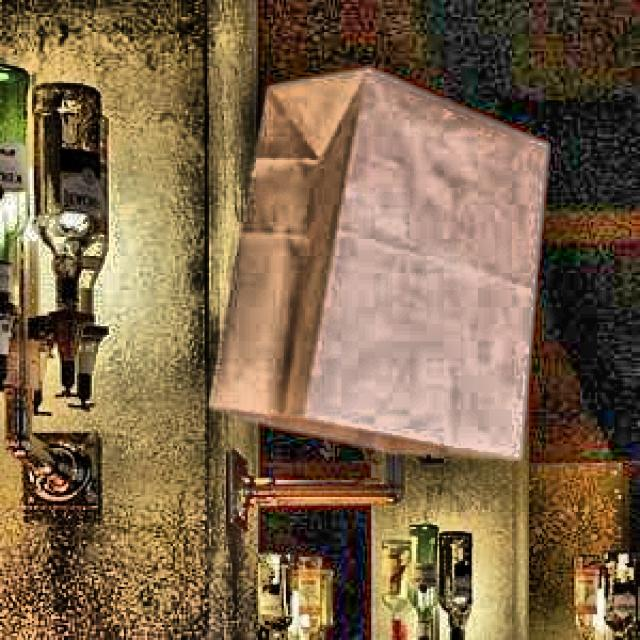Paper-bag: (210, 58, 546, 474)
